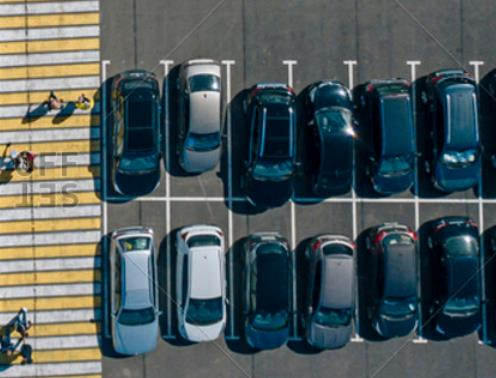car: (104, 227, 163, 354), (424, 69, 483, 192), (108, 71, 165, 197), (428, 215, 485, 340), (361, 76, 421, 194), (244, 81, 297, 210), (239, 233, 296, 350), (175, 223, 230, 344), (306, 78, 360, 199), (368, 221, 421, 340), (303, 233, 356, 351), (177, 58, 226, 174)
